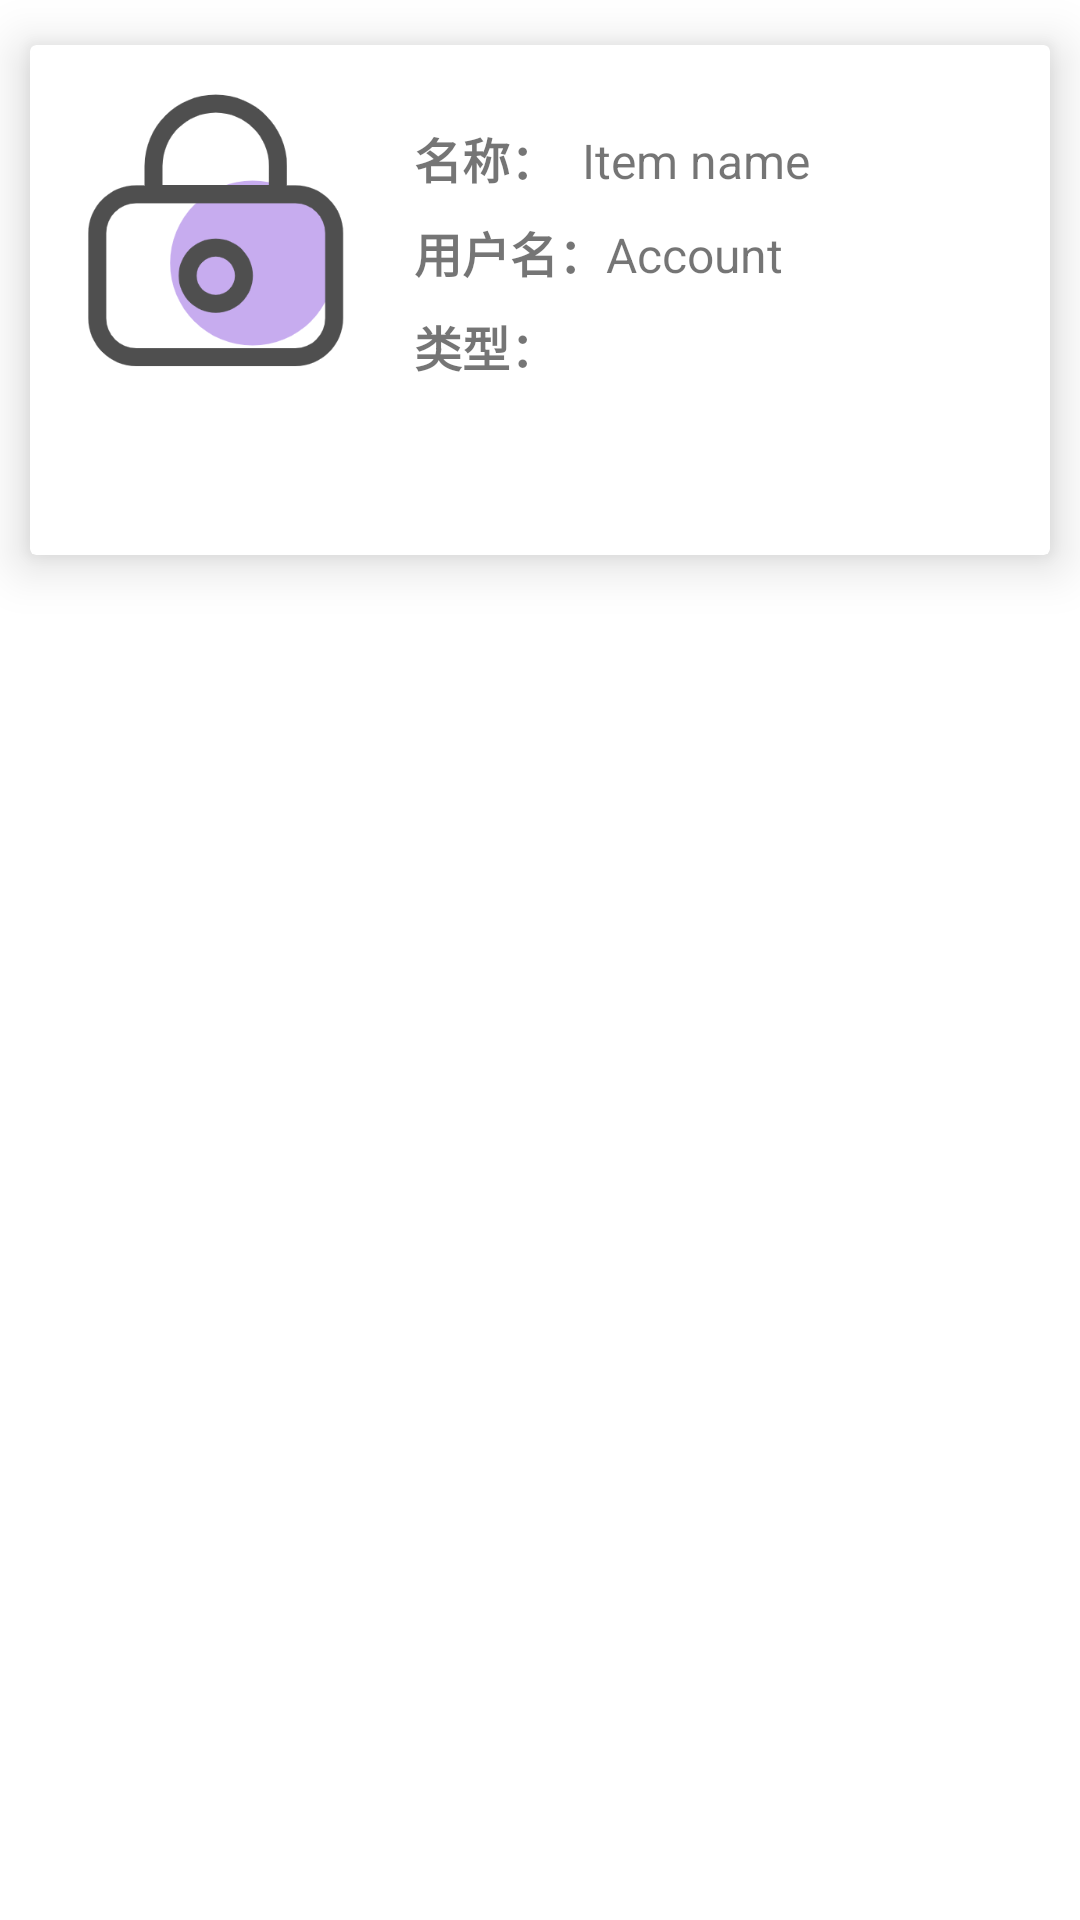

Where icons sit on this 1080 × 1920 app screen, as detection(x1, y1, x2, y2):
lock: detection(88, 94, 344, 366)
